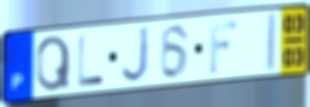6: (158, 23, 192, 80)
F: (207, 19, 238, 76)
I: (263, 9, 279, 75)
J: (120, 25, 151, 86)
L: (77, 33, 107, 89)
Q: (34, 33, 72, 93)
